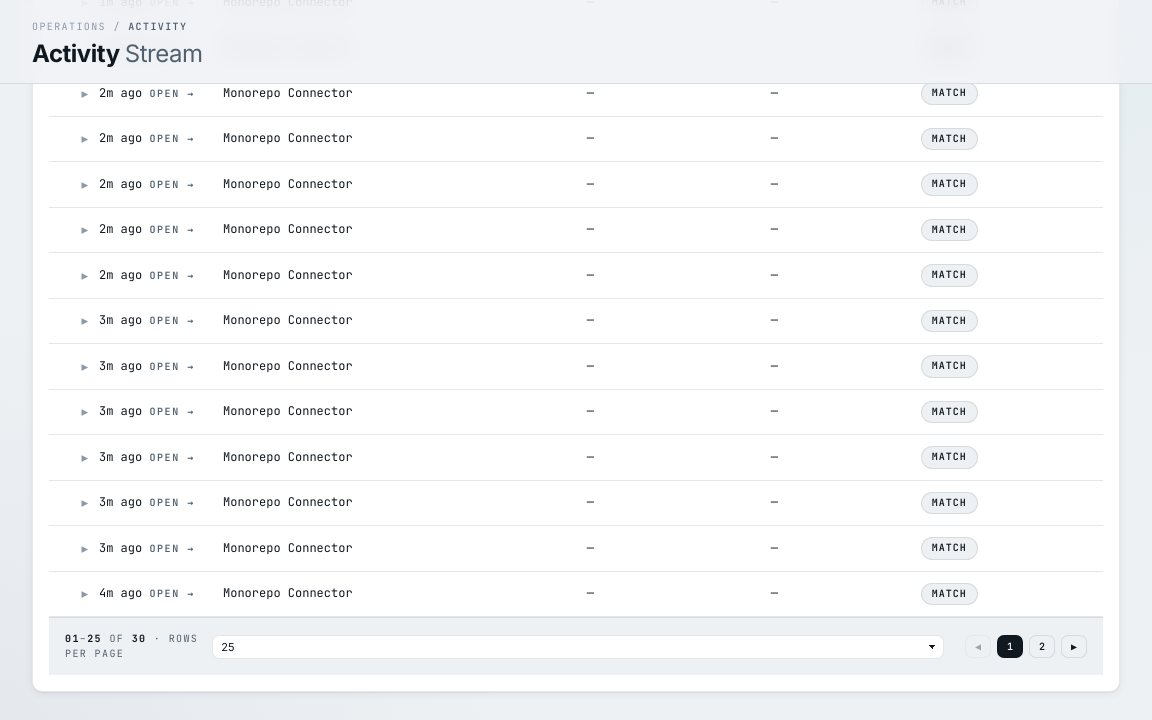
it: Activity › fetches the next page via offset when navigating
The image size is (1152, 720).
(page scrolled)
Click the button named "Next page" at [1074, 647], box [1061,635,1087,658]
(page scrolled)
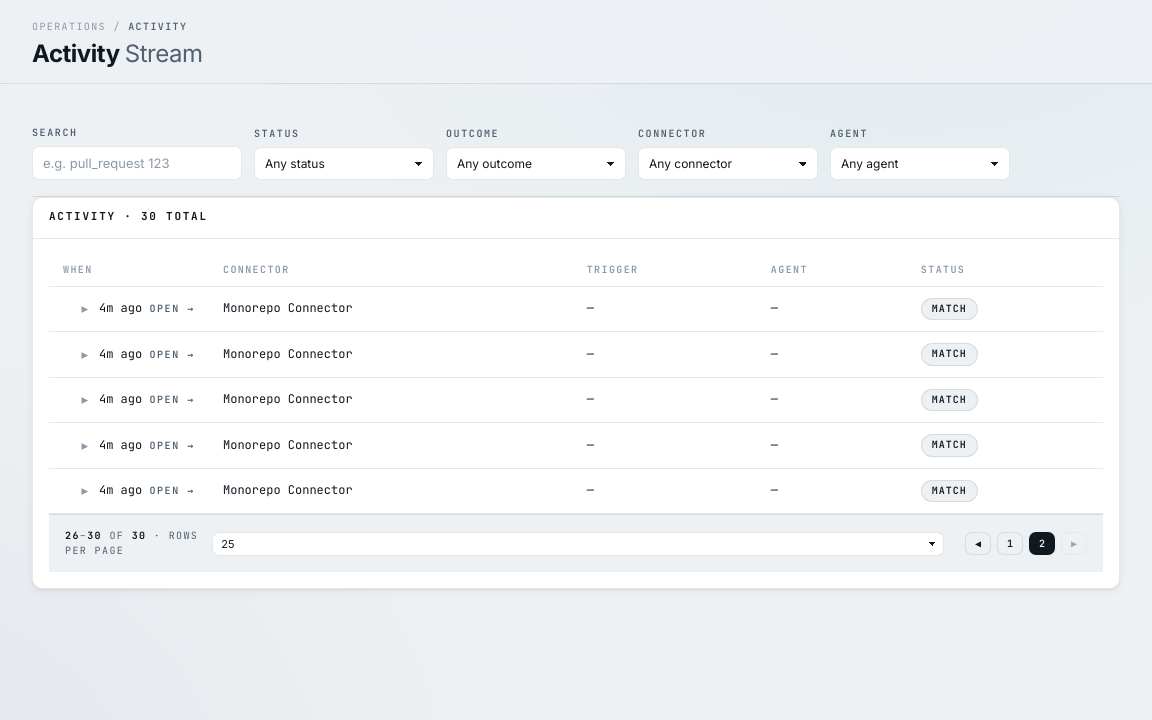
Result: the number of links with class "activity-row" is 5 at [49,286,1103,332]; [49,332,1103,377]; [49,377,1103,423]; [49,423,1103,468]; [49,468,1103,514]
Result: the button named "Previous page" is enabled at [965,532,991,555]
Result: the button named "Next page" is disabled at [1061,532,1087,555]
